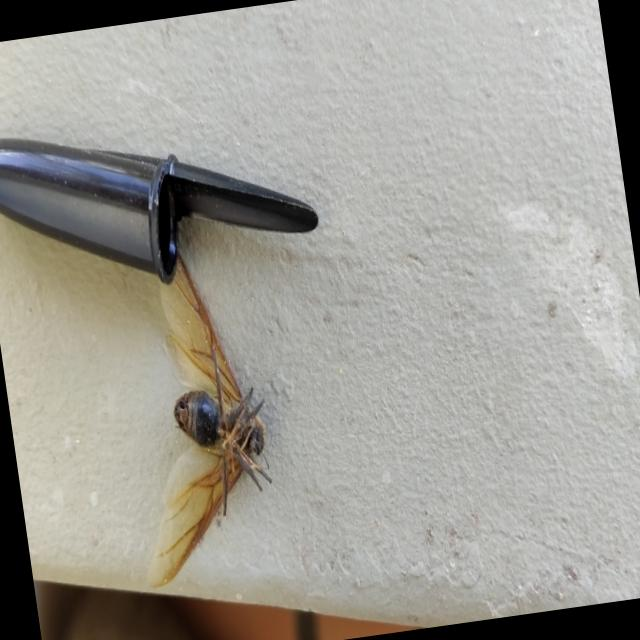Dead-Male-Alate: (100, 230, 290, 590)
